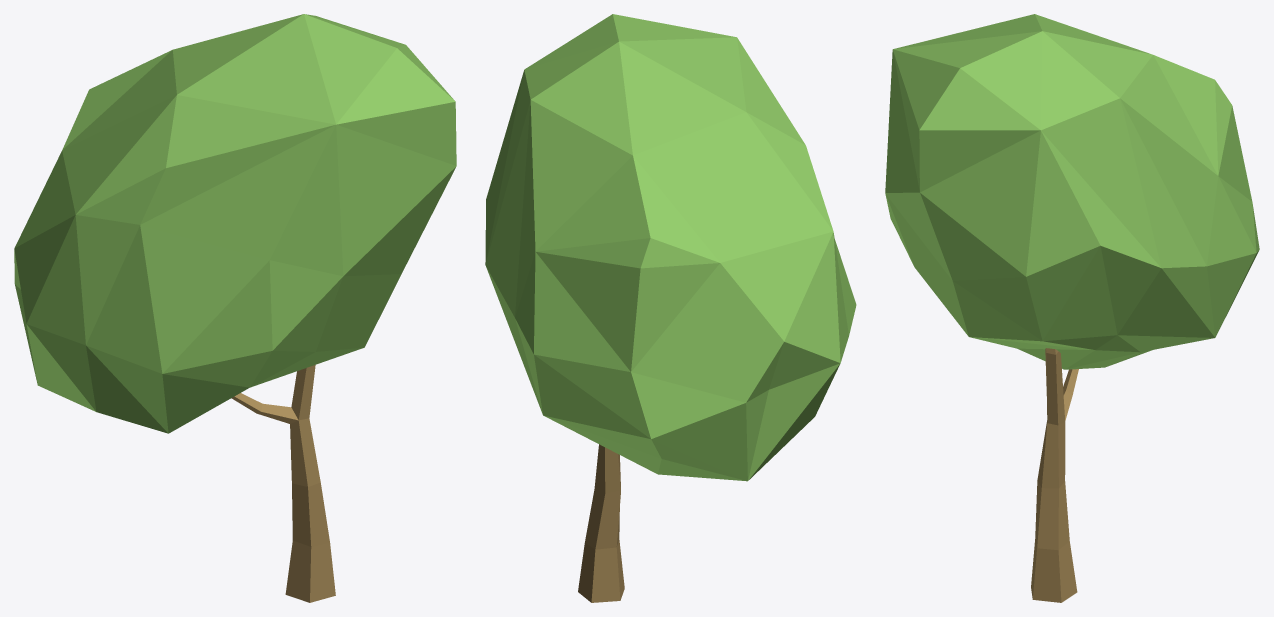
The model's file is Oak_Tree_m_04_LOD.fbx.
The picture shows the model from 3 angles, left to right: view 1: azimuth 30°, elevation 25°; view 2: azimuth 150°, elevation 25°; view 3: azimuth 270°, elevation 25°; orthographic projection. The views are drawn at different scales.
Parts seen in each view (by area): view 1: Oak_Tree_m_04_LOD0; view 2: Oak_Tree_m_04_LOD0; view 3: Oak_Tree_m_04_LOD0.
Part boxes in pixels (x1,y1,x2,y2): Oak_Tree_m_04_LOD0: (14, 14, 456, 602); Oak_Tree_m_04_LOD0: (485, 14, 856, 602); Oak_Tree_m_04_LOD0: (885, 14, 1259, 602).
Size of what is drawn, in the model's own units: 569 by 823 by 502.
